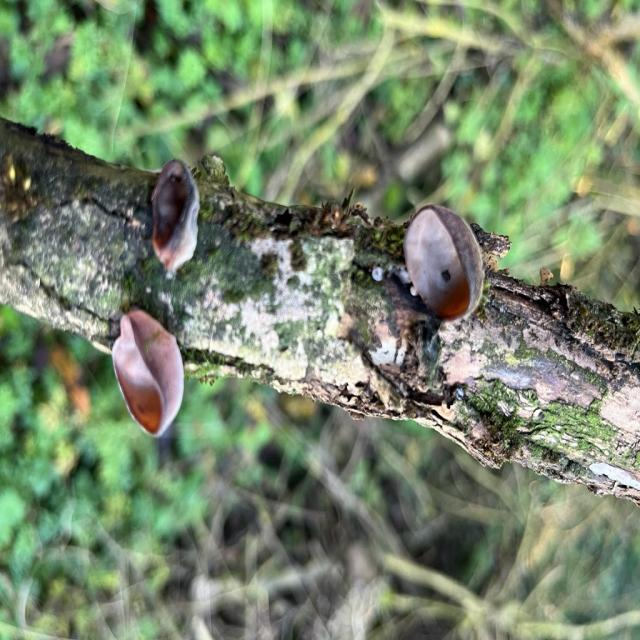Matang: (108, 307, 186, 438), (402, 202, 487, 322), (149, 158, 202, 279)
